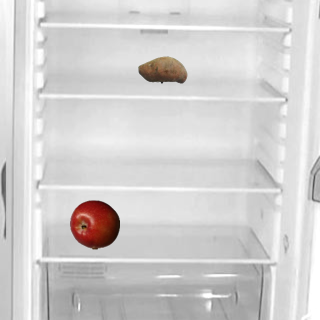Apple Braeburn: (69, 199, 119, 249)
Potato Sweet: (137, 44, 187, 94)
